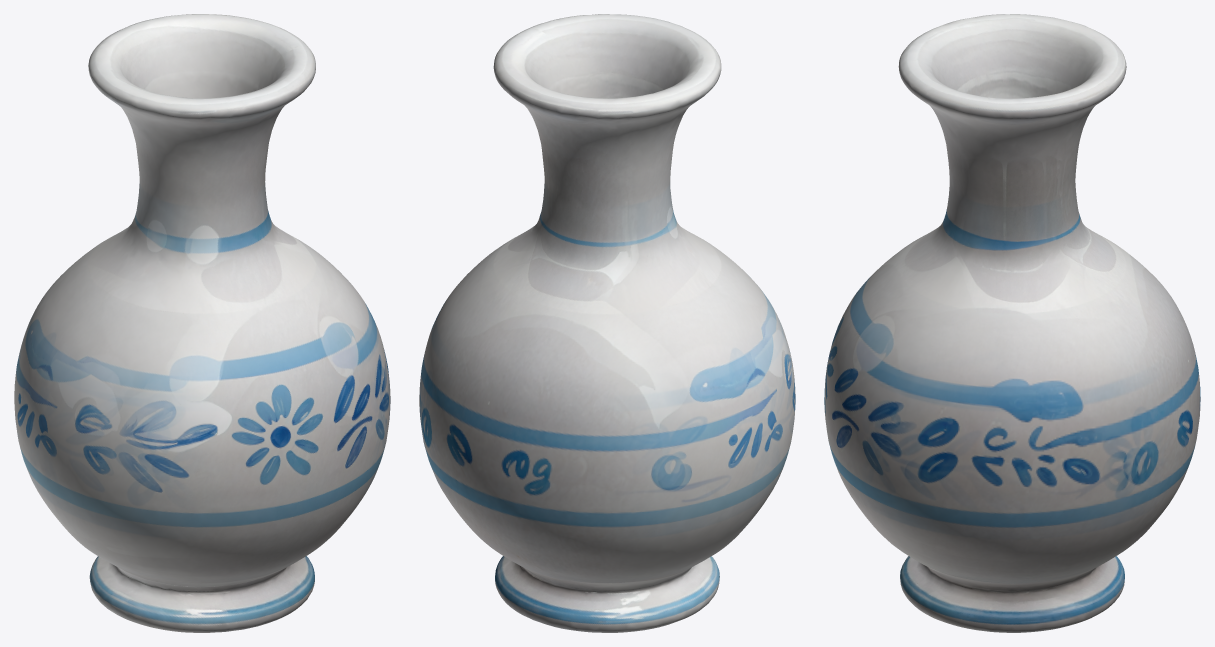
Rendered from Before_Vase.fbx.
3 renders of one model, left to right at view 1: azimuth 30°, elevation 25°; view 2: azimuth 150°, elevation 25°; view 3: azimuth 270°, elevation 25°, orthographic.
Visible parts, largest first — view 1: SRC_Vase_Intact; view 2: SRC_Vase_Intact; view 3: SRC_Vase_Intact.
Part boxes in pixels (bbox=[...]): SRC_Vase_Intact: bbox=[14, 14, 390, 632]; SRC_Vase_Intact: bbox=[419, 14, 795, 632]; SRC_Vase_Intact: bbox=[824, 14, 1200, 632].
Size of the model in its own units: 0.6406 by 1 by 0.6408.
1 material, 1 textured.
